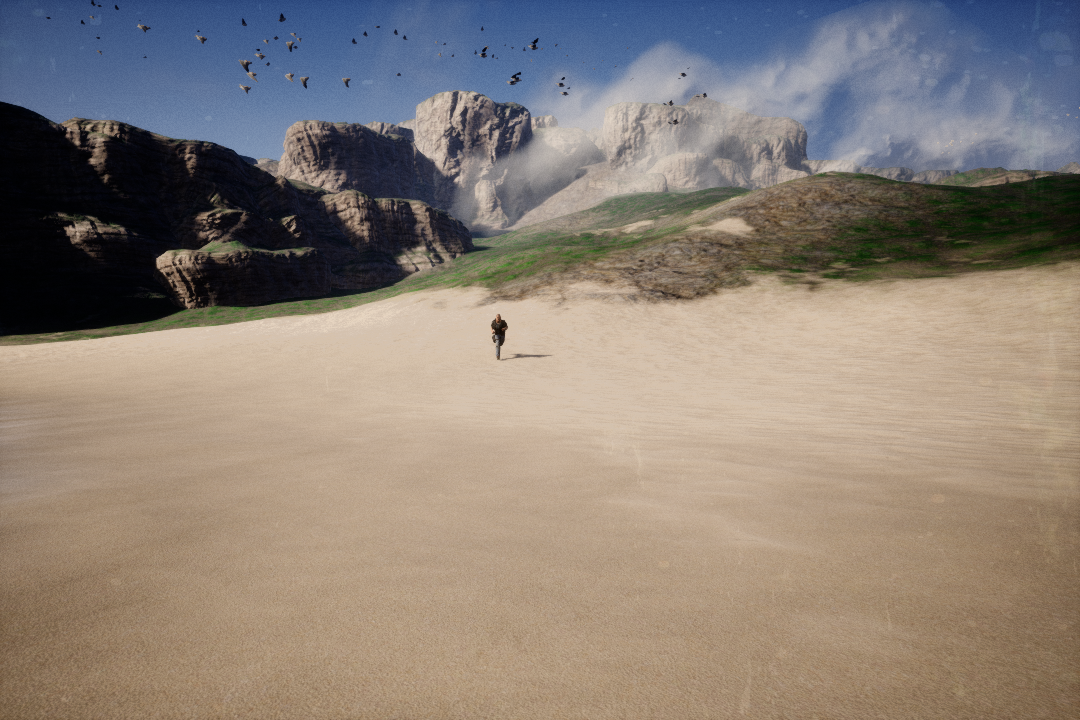person: (487, 313, 511, 360)
